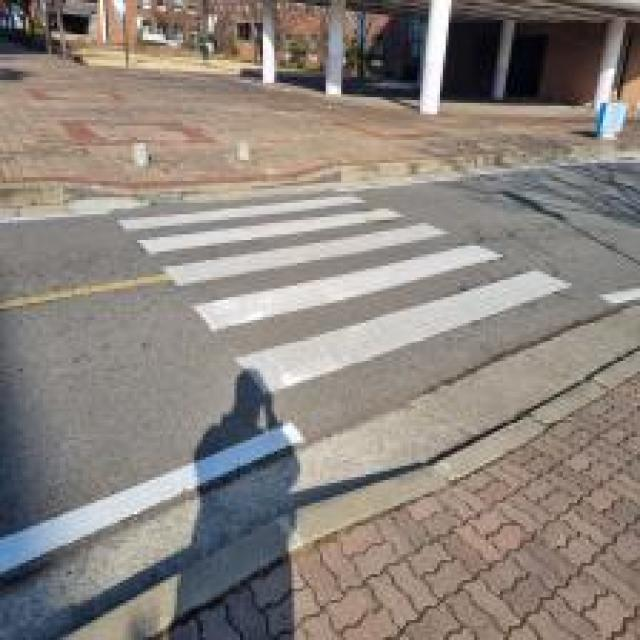crosswalk: (105, 177, 577, 402)
